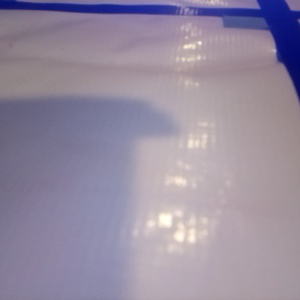bottom_left: (223, 10, 298, 30)
